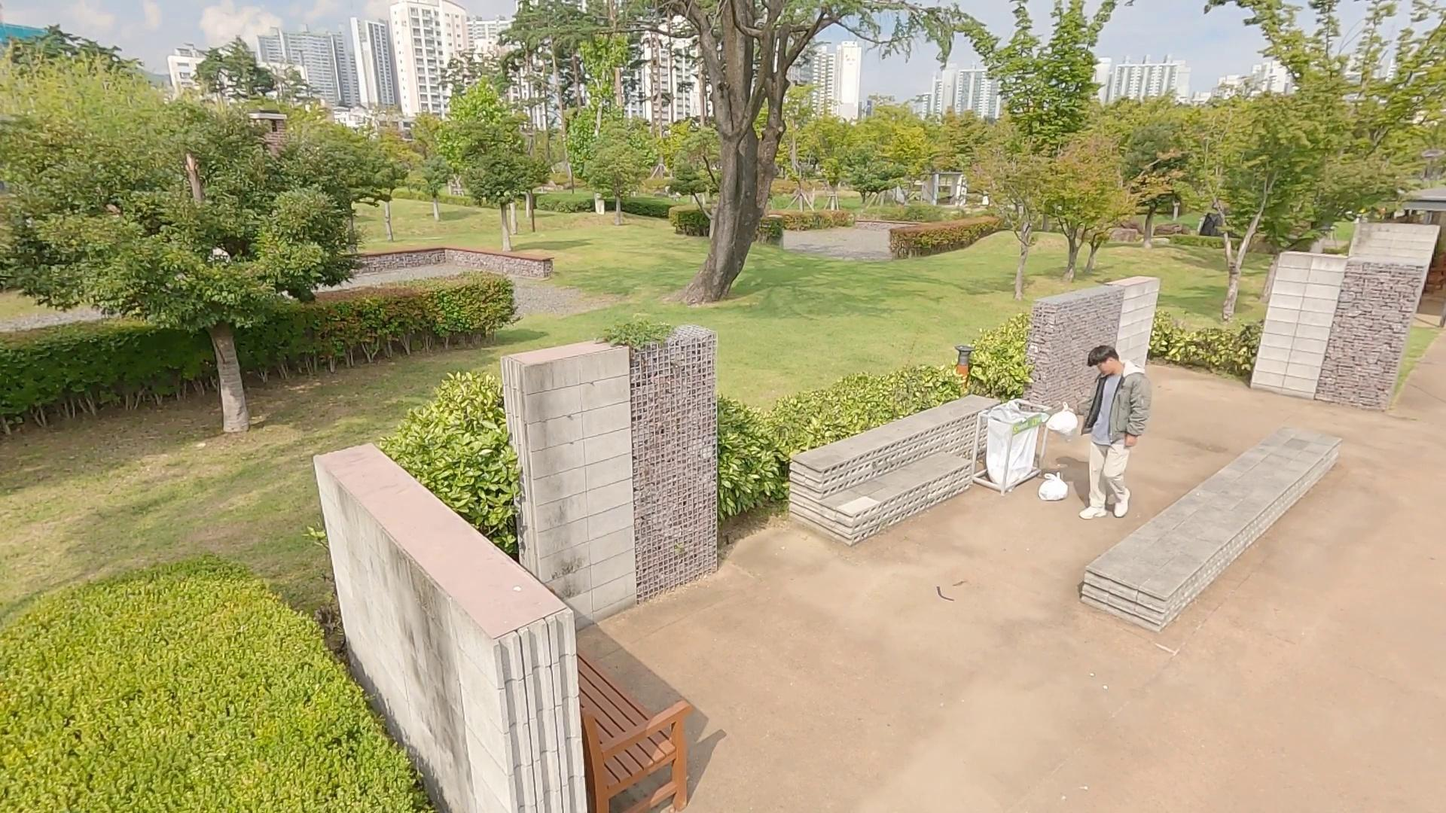person: (1066, 346, 1152, 522)
trash: (1046, 403, 1078, 442), (1037, 472, 1070, 504)
